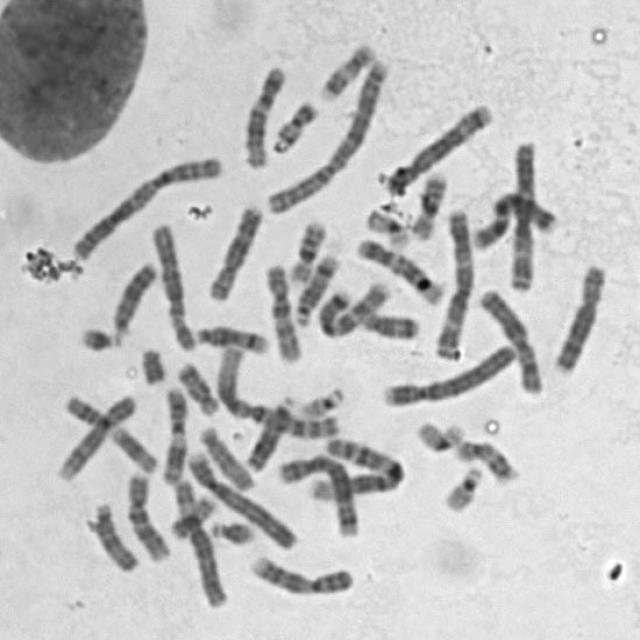A1: (210, 339, 344, 440), (304, 430, 406, 502)
A2: (261, 52, 392, 216), (65, 150, 227, 262)
A3: (428, 202, 477, 362), (505, 134, 542, 293)
B4: (182, 444, 300, 552), (378, 338, 520, 410)
B5: (379, 96, 496, 196), (273, 450, 362, 538)
C10: (121, 466, 173, 563), (259, 256, 305, 364)
C11: (59, 388, 162, 476), (156, 381, 190, 486)
C12: (350, 232, 447, 307), (238, 59, 288, 169)
C6: (168, 473, 228, 609), (145, 216, 199, 353)
C7: (467, 186, 562, 253), (313, 276, 392, 339)
C8: (548, 258, 610, 376), (202, 198, 266, 304)
C9: (54, 388, 140, 482), (244, 550, 356, 598)
D13: (238, 388, 298, 473), (108, 256, 161, 336)
D14: (290, 248, 342, 327), (190, 318, 272, 355)
D15: (194, 420, 258, 493), (88, 498, 142, 574)
E16: (406, 166, 449, 241), (284, 215, 328, 285)
E17: (313, 36, 378, 104), (451, 433, 522, 486)
E18: (172, 356, 222, 416), (355, 305, 422, 341)
F19: (361, 201, 413, 251), (411, 414, 468, 454)
F20: (269, 94, 321, 155), (164, 489, 219, 542)
G21: (73, 320, 126, 353), (205, 514, 256, 547)
G22: (438, 460, 487, 514), (296, 380, 346, 420)
X: (475, 283, 547, 397)
Y: (135, 341, 170, 386)
